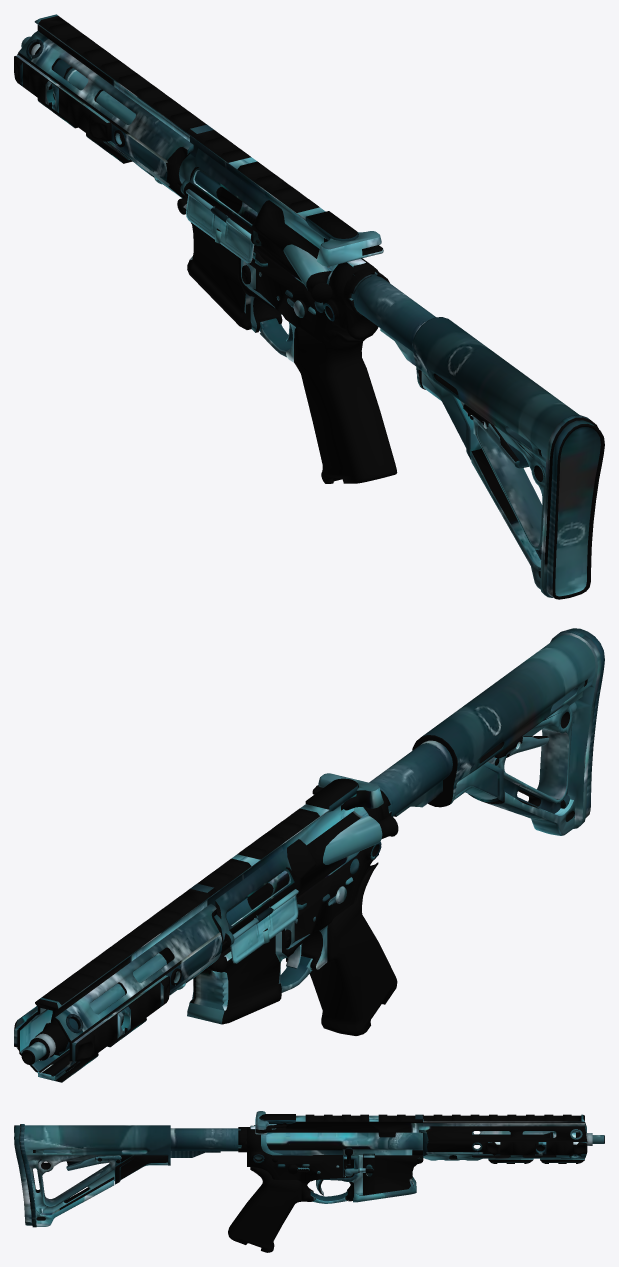
File: R4C-Black-Ice.glb
3 renders of one model, top to bottom at view 1: azimuth 30°, elevation 25°; view 2: azimuth 150°, elevation 25°; view 3: azimuth 270°, elevation 25°, orthographic. The views are drawn at different scales.
Visible parts, largest first — view 1: R4C Black Ice; view 2: R4C Black Ice; view 3: R4C Black Ice.
Part boxes in pixels (x1,y1,x2,y2): R4C Black Ice: (14, 14, 604, 599); R4C Black Ice: (14, 628, 604, 1082); R4C Black Ice: (14, 1111, 604, 1252).
Bounding box in the file's own units: 0.0476 × 0.1397 × 0.5675.
1 material, 1 textured.
